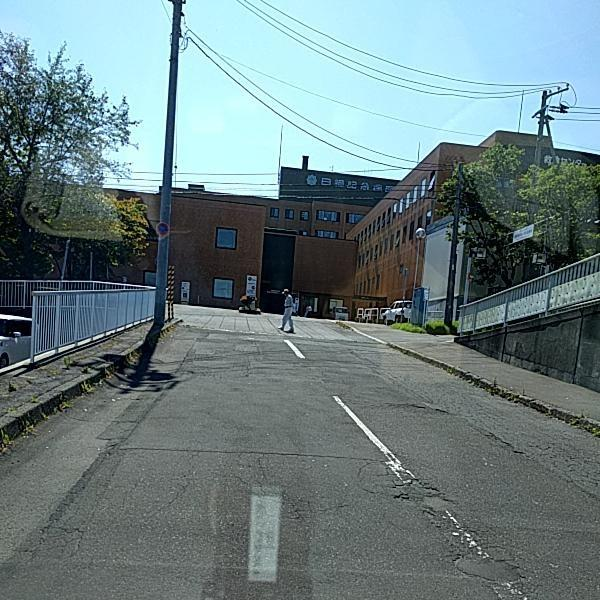pothole: (398, 493, 460, 513)
